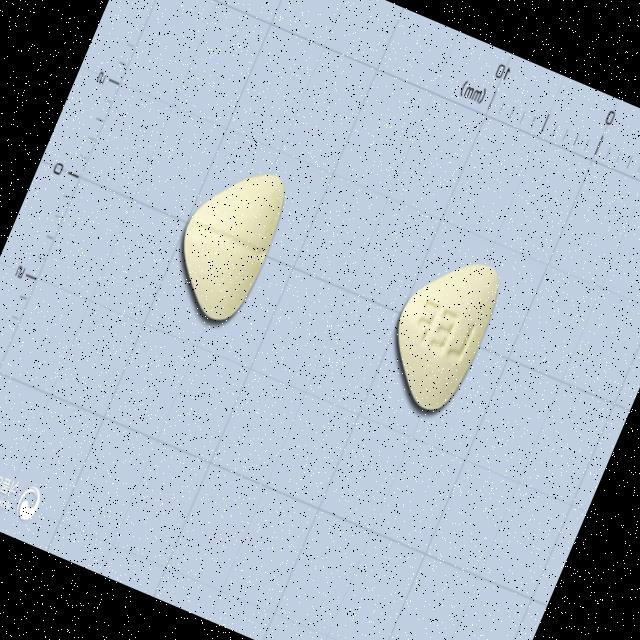Hanlim Leflunomide: (154, 148, 298, 334), (368, 241, 510, 422)
